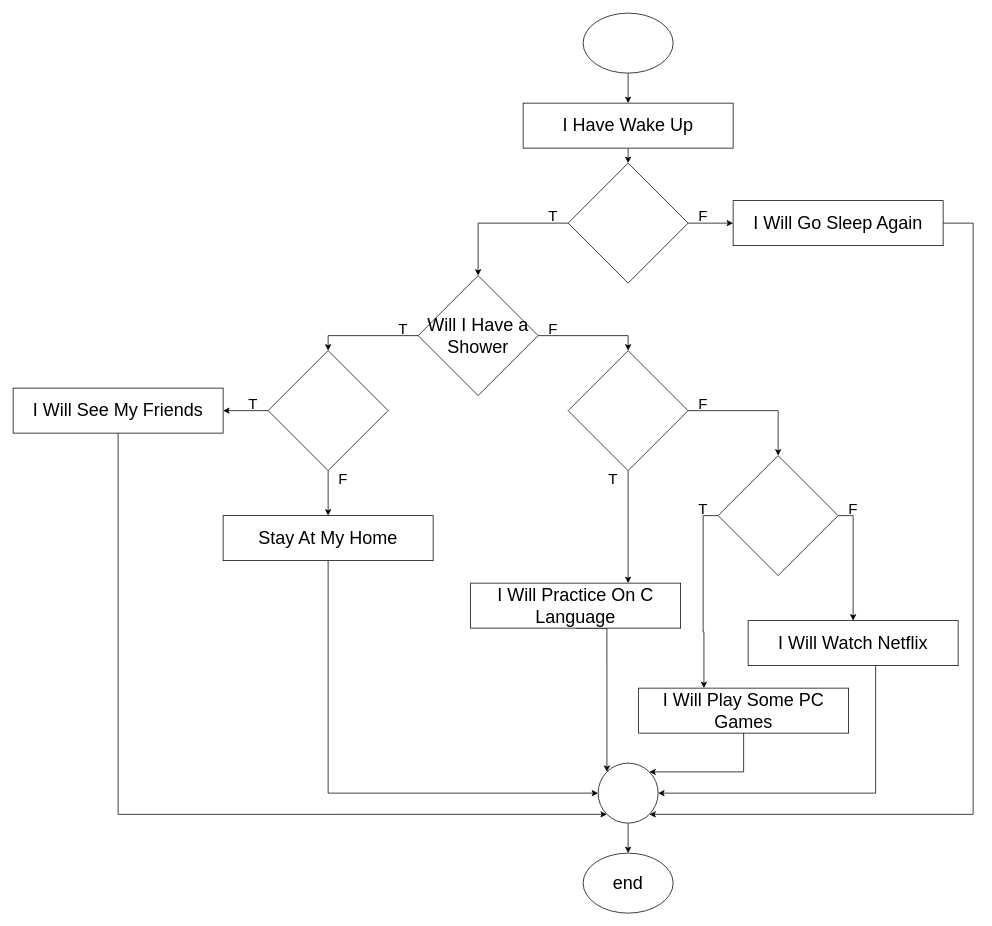
The diagram is 992 pixels wide and 926 high, and some of its shapes have lost their labels. Here are the shapes that lost their labels. From the top down, the box of each, then its label:
(582, 12, 673, 73): start
(567, 162, 688, 283): Will I eat Breakfast?
(267, 350, 388, 471): Will I Go Out
(567, 350, 688, 471): Will I Study PL
(717, 455, 838, 576): Will I Play Games
